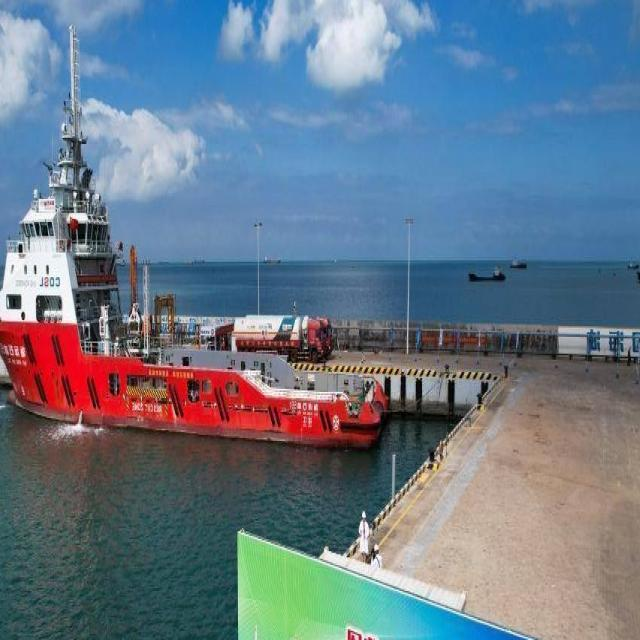cargoship: (0, 122, 382, 452)
